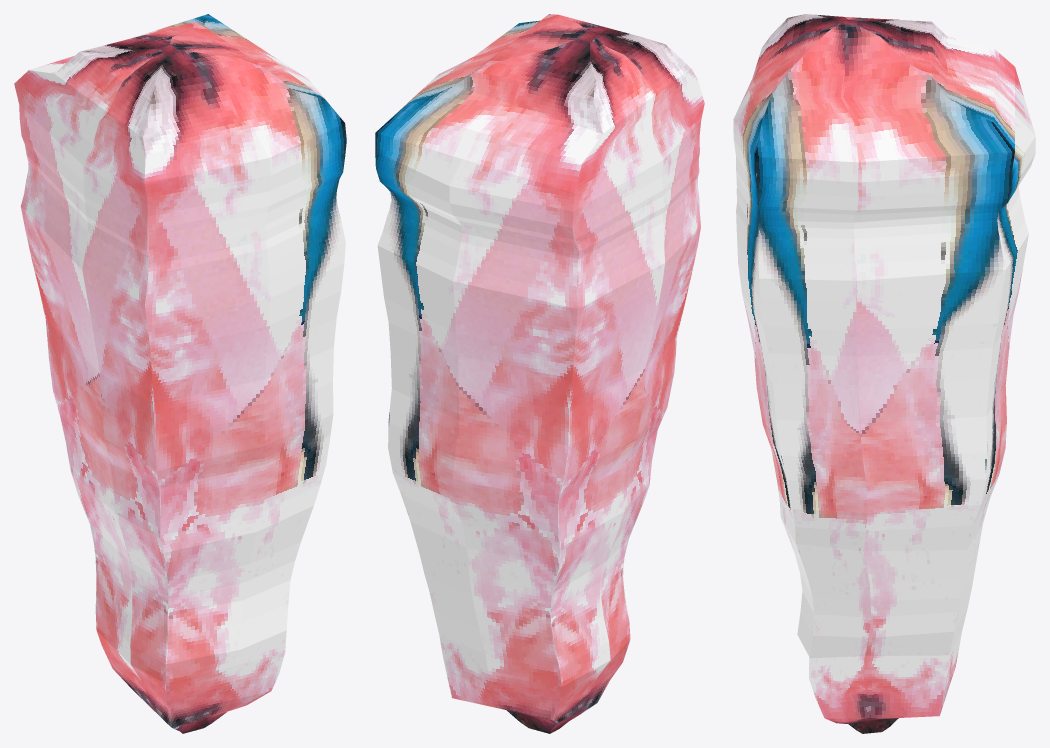
The model's file is metamorphosis_v17_t.glb.
The picture shows the model from 3 angles, left to right: view 1: azimuth 30°, elevation 25°; view 2: azimuth 150°, elevation 25°; view 3: azimuth 270°, elevation 25°; orthographic projection.
Visible parts, largest first — view 1: Cube; view 2: Cube; view 3: Cube.
Part boxes in pixels (x1=…): Cube: x1=14, y1=14, x2=346, y2=733; Cube: x1=375, y1=14, x2=704, y2=733; Cube: x1=733, y1=14, x2=1035, y2=733.
Bounding box in the file's own units: 0.9987 × 2.9 × 1.15.
1 material, 1 textured.
